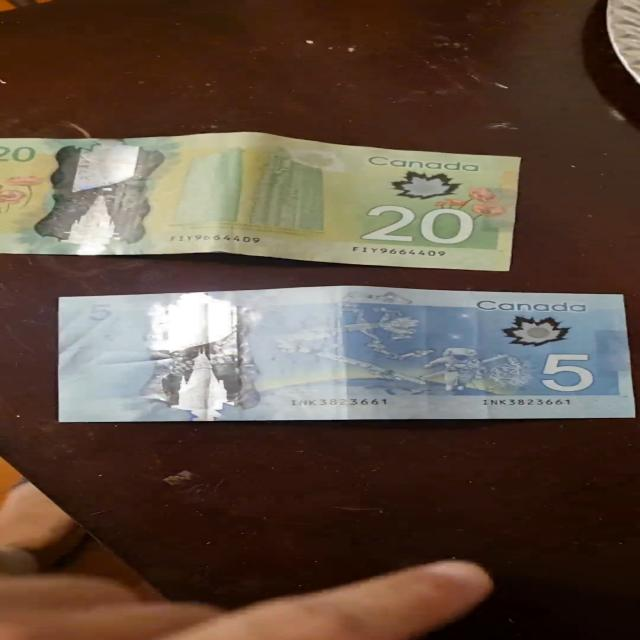20 cad: (9, 139, 519, 272)
5 cad: (64, 295, 640, 419)
